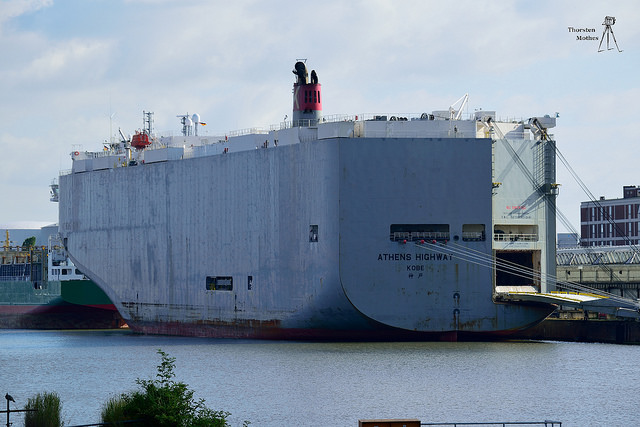PCC: (52, 62, 568, 338)
